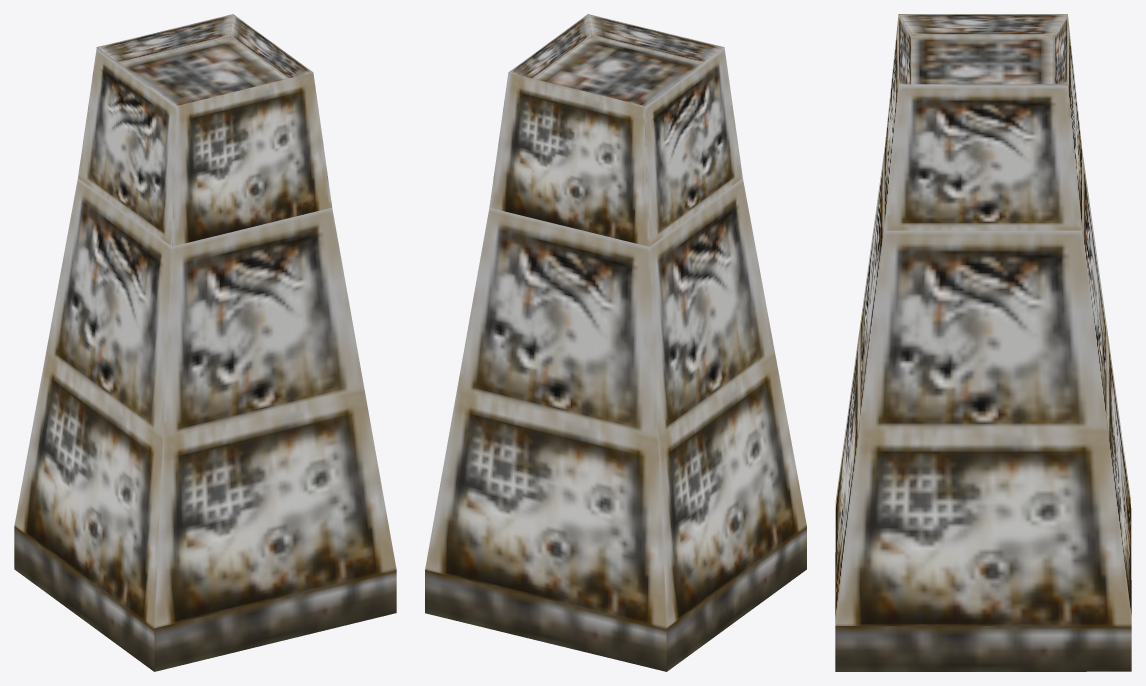
File: d_mediumpost_dam.glb
The picture shows the model from 3 angles, left to right: view 1: azimuth 30°, elevation 25°; view 2: azimuth 150°, elevation 25°; view 3: azimuth 270°, elevation 25°; orthographic projection. The views are drawn at different scales.
Visible parts, largest first — view 1: DavionMediumPostDam; view 2: DavionMediumPostDam; view 3: DavionMediumPostDam.
Part boxes in pixels (box(x1,y1,x2,y2)): DavionMediumPostDam: box(14, 14, 396, 671); DavionMediumPostDam: box(425, 14, 806, 671); DavionMediumPostDam: box(835, 14, 1131, 671).
Bounding box in the file's own units: 5.49 × 11.52 × 5.52.
Materials: 1 (1 with a texture image).
